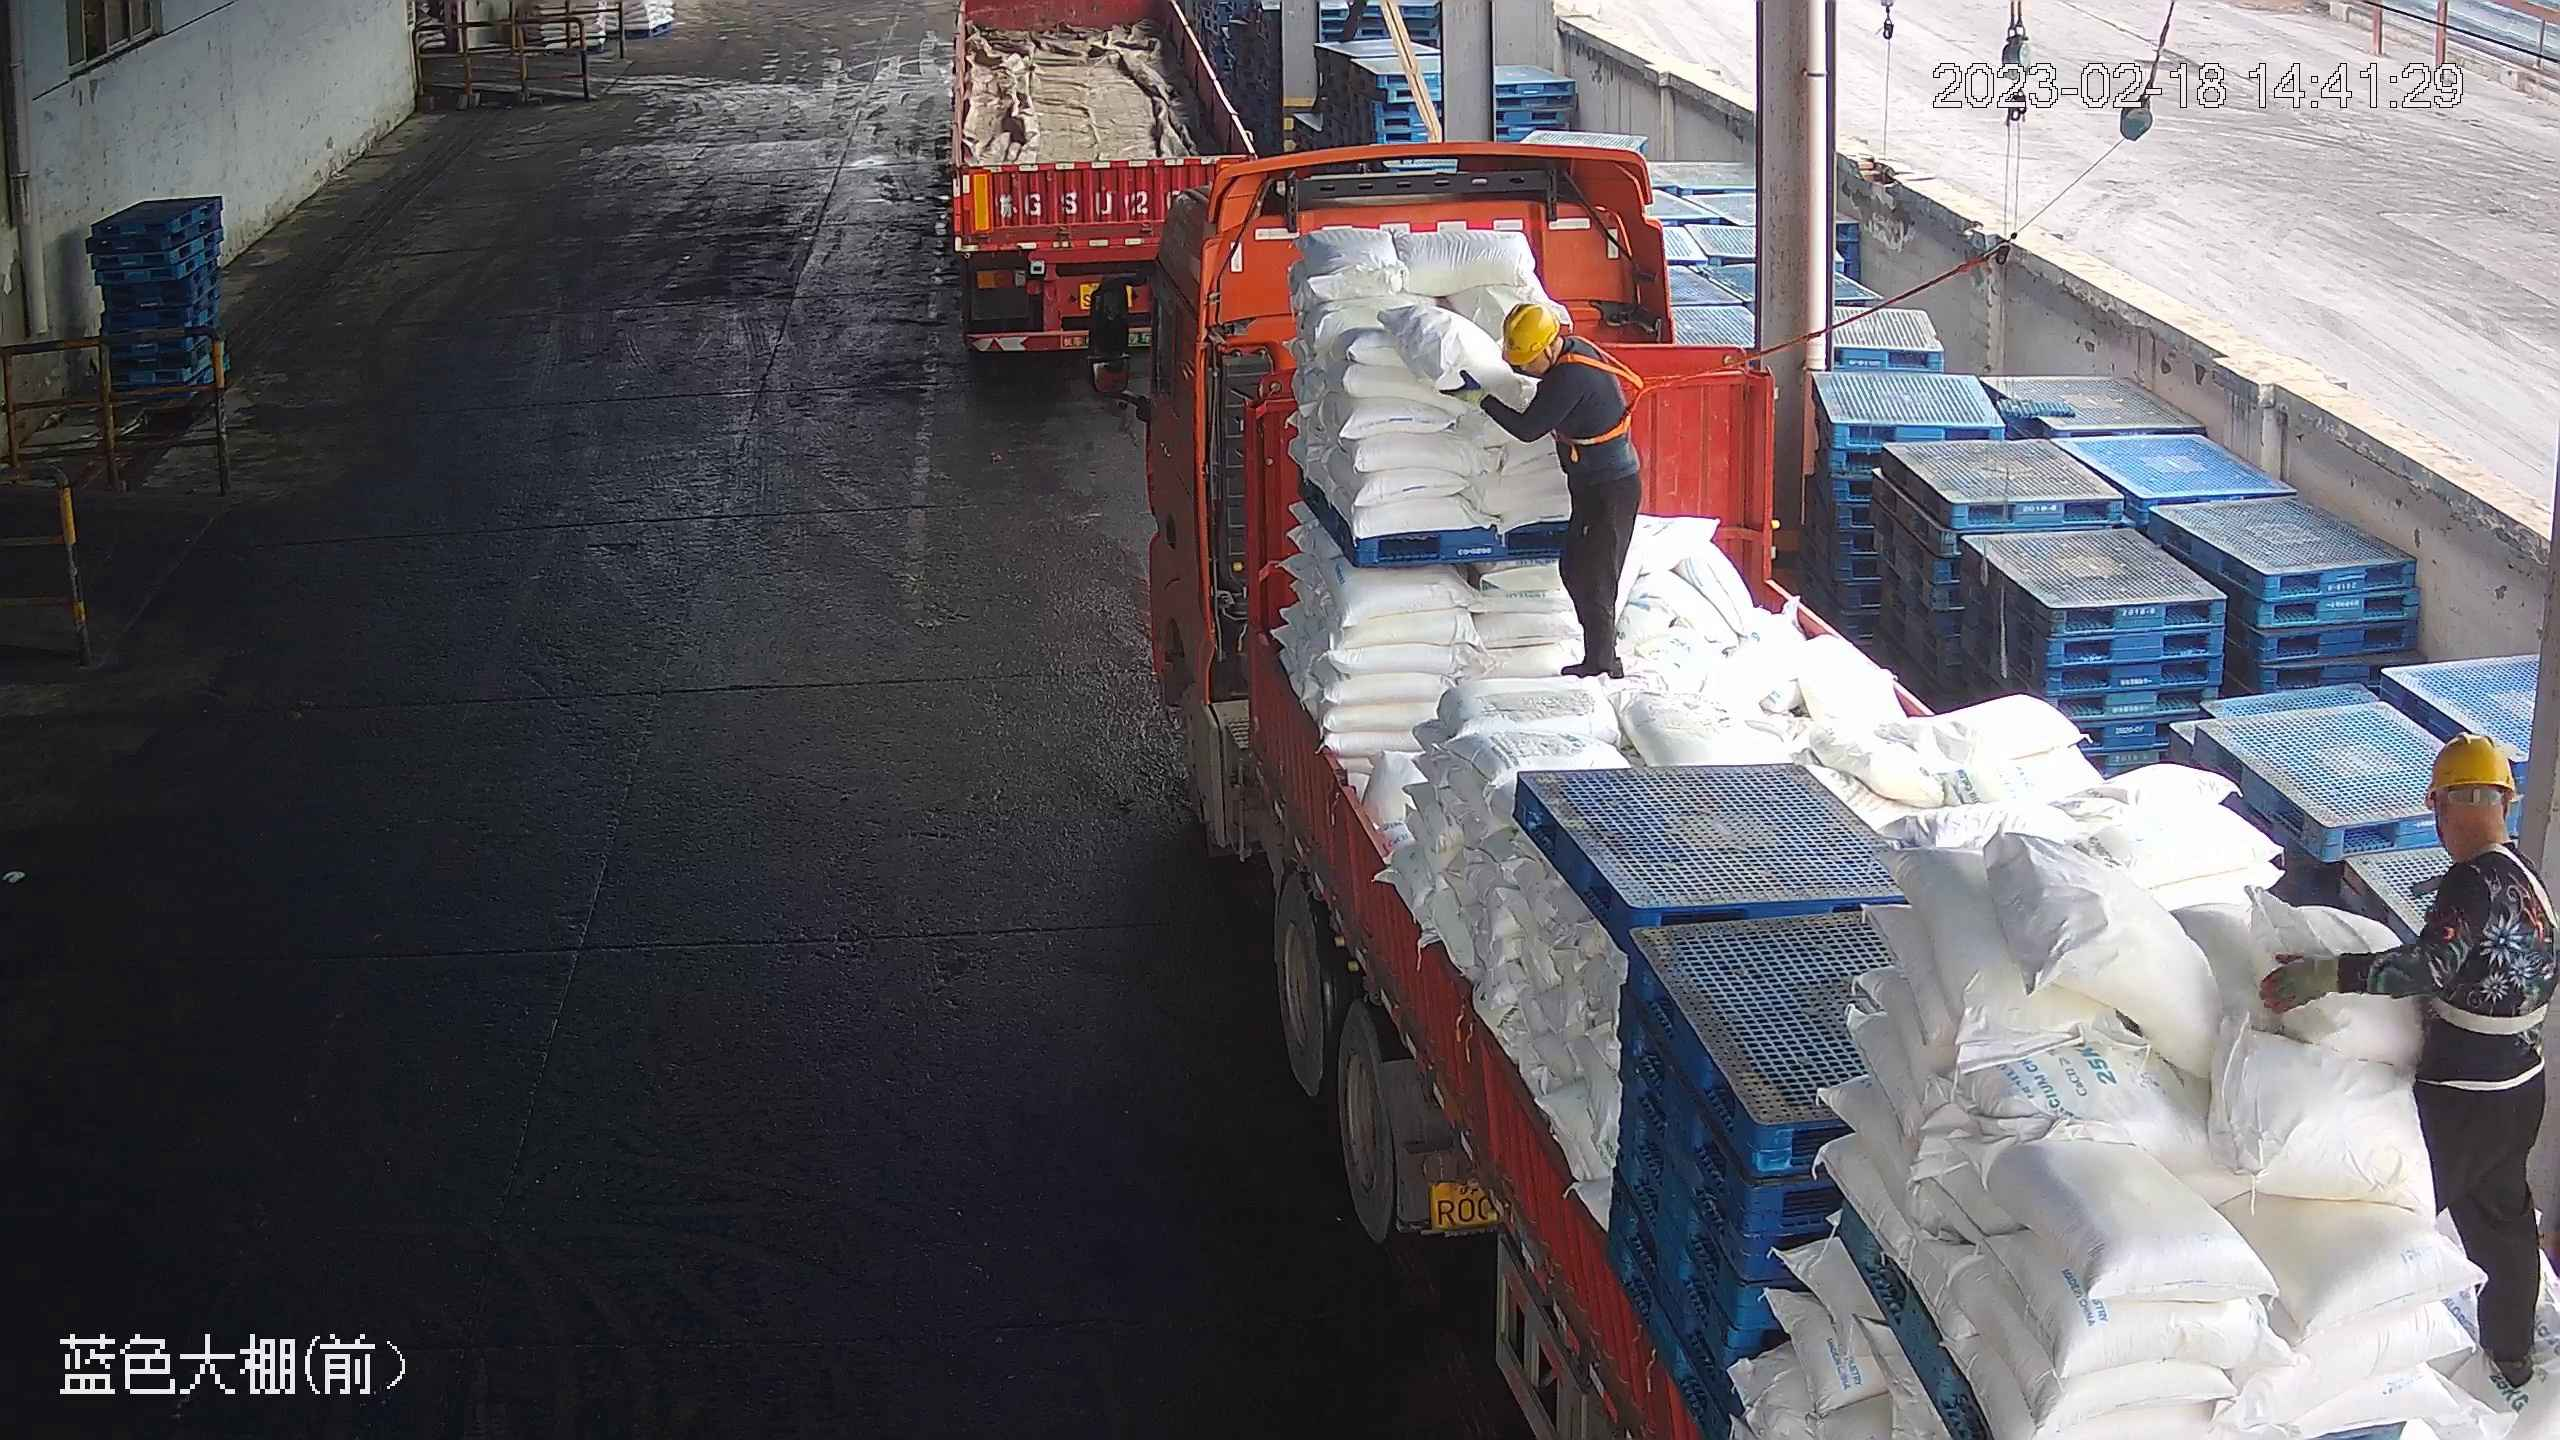belt: (2448, 852, 2559, 1027), (1561, 337, 1652, 451)
head: (2408, 725, 2558, 941), (1499, 299, 1617, 433)
helmet: (2418, 727, 2517, 803), (1502, 298, 1566, 370)
people: (2253, 729, 2559, 1404), (1447, 296, 1648, 683)
truck: (1091, 142, 2560, 1440), (948, 3, 1264, 360)
